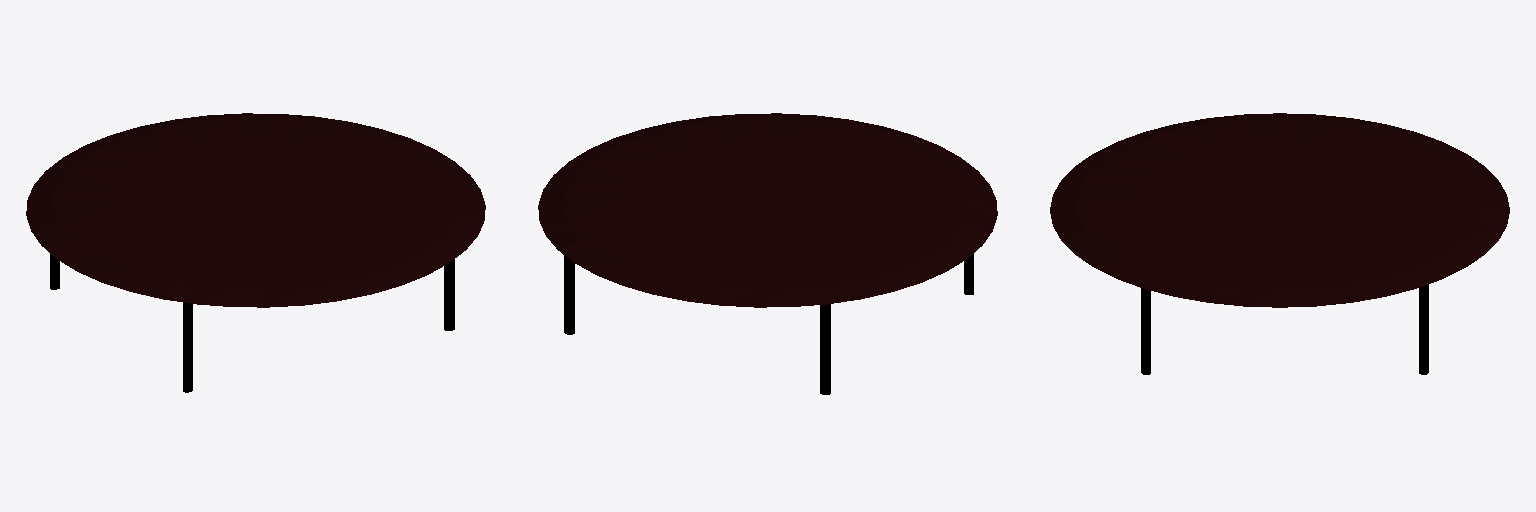
Rendered from shorttable.obj.
3 views of the same model, side by side, from view 1: azimuth 30°, elevation 25°; view 2: azimuth 150°, elevation 25°; view 3: azimuth 270°, elevation 25° (orthographic).
Visible parts, largest first — view 1: pCylinder1, pasted__pPipe1 group, pasted__pPipe1 group1; view 2: pCylinder1, pPipe1, pasted__pPipe1 group2; view 3: pCylinder1, pasted__pPipe1 group2, pasted__pPipe1 group1.
Part boxes in pixels (x1,y1,x2,y2): pCylinder1: (26, 113, 485, 307); pasted__pPipe1 group: (183, 303, 192, 392); pasted__pPipe1 group1: (444, 259, 454, 330); pCylinder1: (538, 113, 997, 307); pPipe1: (820, 304, 830, 394); pasted__pPipe1 group2: (564, 255, 574, 334); pCylinder1: (1050, 113, 1509, 307); pasted__pPipe1 group2: (1419, 284, 1428, 374); pasted__pPipe1 group1: (1141, 288, 1150, 374).
Bounding box in the file's own units: 5.87 × 1.55 × 5.87.